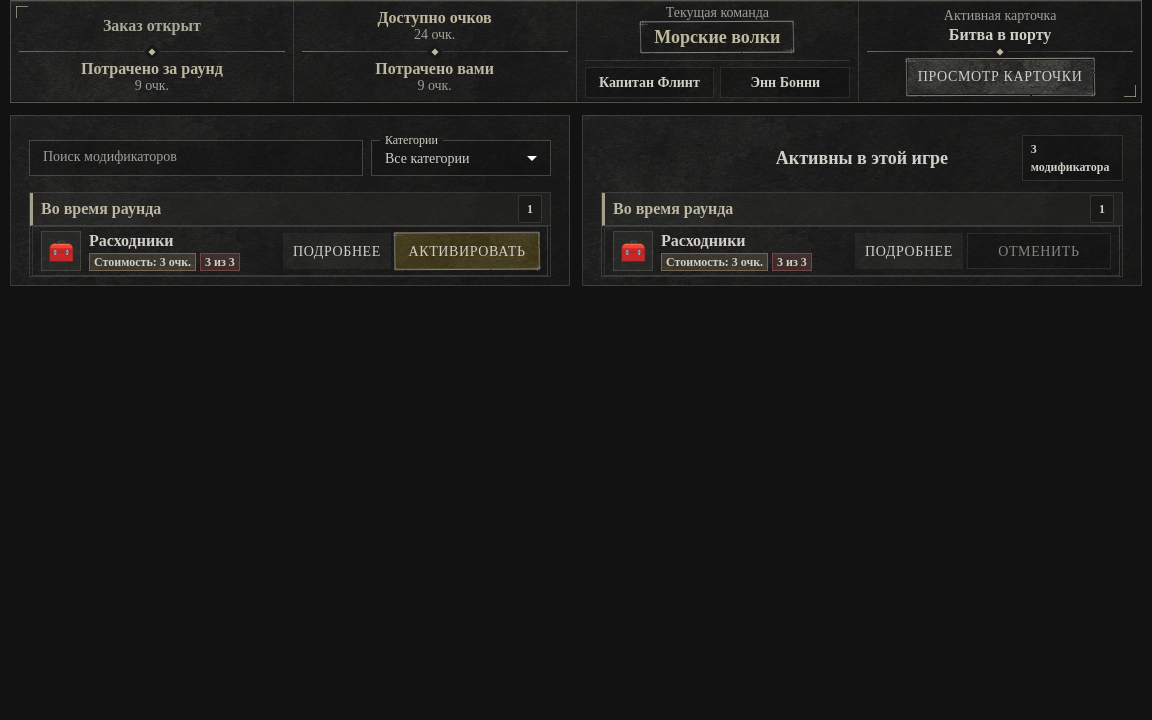
Scenario: GameModifiersPage › asks for confirmation before activating a modifier
The image size is (1152, 720).
Click the button with aria-label "Активировать Расходники": (467, 251) x1=395 y1=233 x2=539 y2=269
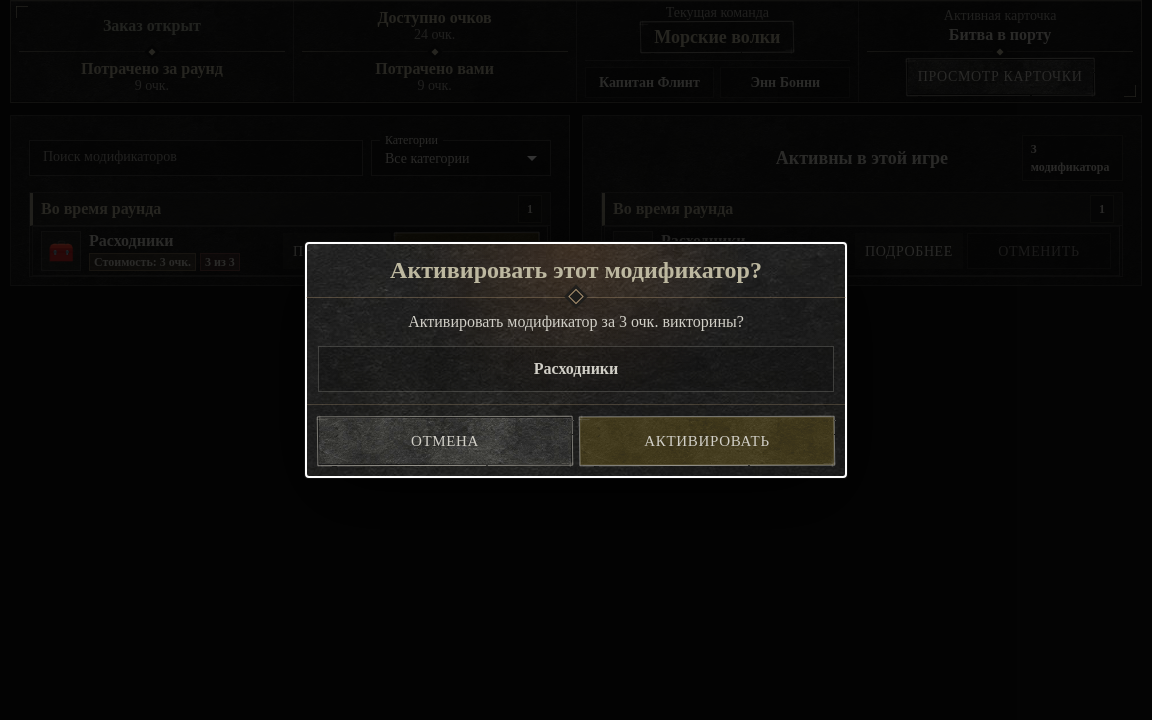
Expected: the text "Активировать модификатор за 3 очк. викторины?" is shown, x1=408 y1=313 x2=744 y2=330
Expected: the button "Отмена" is shown, x1=318 y1=417 x2=572 y2=465
Click the button "Активировать": (707, 441) x1=580 y1=417 x2=834 y2=465
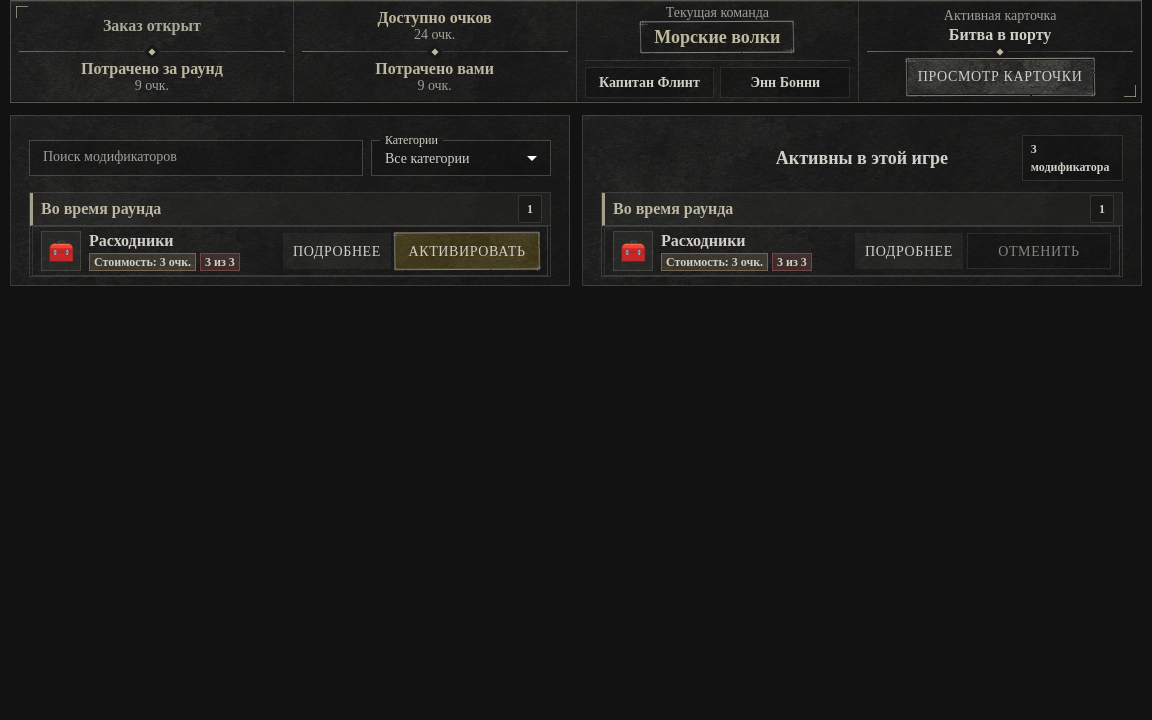
Expected: the heading "Активировать этот модификатор?" is gone
